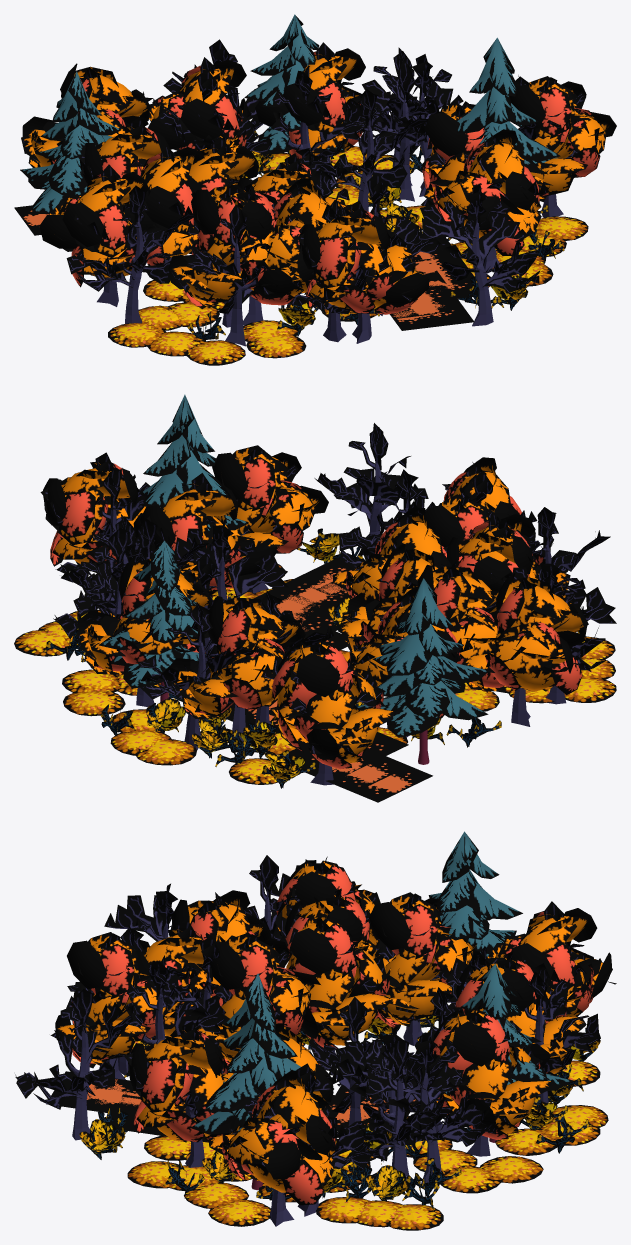
Rendered from LieveOma.fbx.
The picture shows the model from 3 angles, top to bottom: view 1: azimuth 30°, elevation 25°; view 2: azimuth 150°, elevation 25°; view 3: azimuth 270°, elevation 25°; orthographic projection. The views are drawn at different scales.
Parts seen in each view (by area): view 1: model_4, model_9, model_10, model_3, model_8, model_6; view 2: model_4, model_9, model_10, model_3, model_8, model_6; view 3: model_4, model_9, model_3, model_10, model_6, model_8.
Boxes of the visible parts, <box> form: model_4: <box>22,48,616,314</box>; model_9: <box>21,39,599,346</box>; model_10: <box>20,14,561,214</box>; model_3: <box>108,146,588,365</box>; model_8: <box>14,204,479,330</box>; model_6: <box>94,131,564,340</box>; model_4: <box>43,445,588,769</box>; model_9: <box>40,423,616,785</box>; model_10: <box>99,394,489,764</box>; model_3: <box>14,564,616,784</box>; model_8: <box>227,553,432,802</box>; model_6: <box>44,528,579,788</box>; model_4: <box>55,859,611,1205</box>; model_9: <box>15,855,616,1226</box>; model_3: <box>127,1039,608,1230</box>; model_10: <box>190,831,573,1190</box>; model_6: <box>79,1015,600,1210</box>; model_8: <box>46,1071,446,1142</box>.
Bounding box in the file's own units: 5877 × 2168 × 5368.
Materials: 6 (6 with a texture image).
